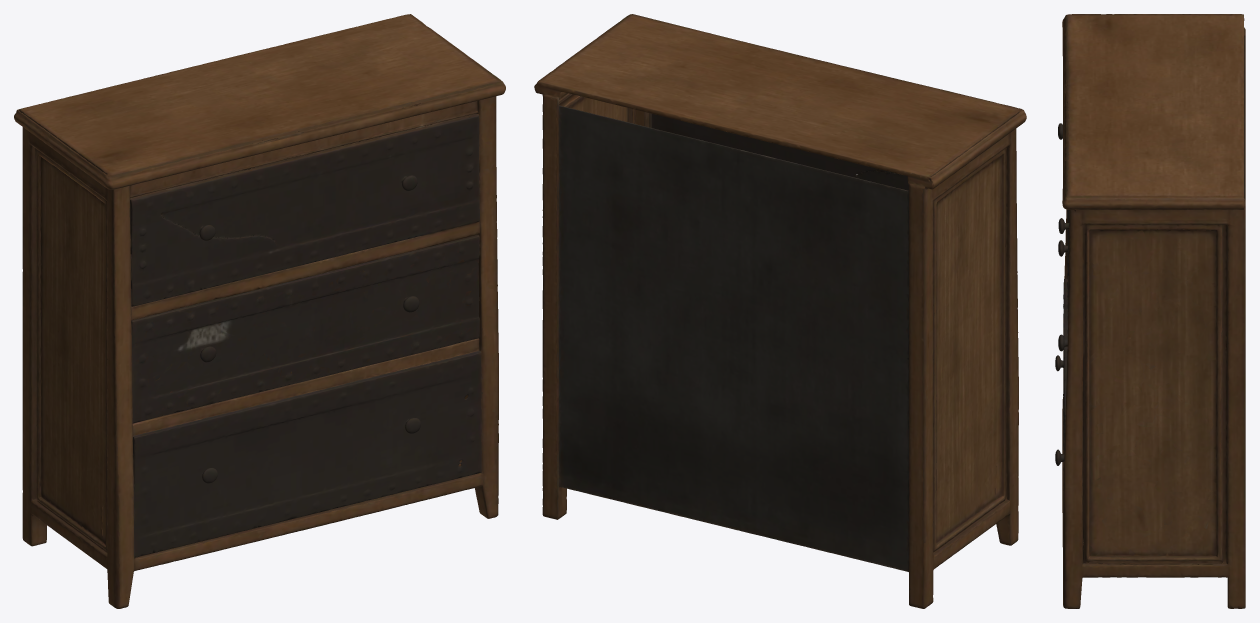
File: B071ZHY8X9.glb
The picture shows the model from 3 angles, left to right: view 1: azimuth 30°, elevation 25°; view 2: azimuth 150°, elevation 25°; view 3: azimuth 270°, elevation 25°; orthographic projection. The views are drawn at different scales.
Visible parts, largest first — view 1: geometry_0; view 2: geometry_0; view 3: geometry_0.
Boxes of the visible parts, left/top/right/bottom form: geometry_0: left=14, top=14, right=505, bottom=608; geometry_0: left=534, top=14, right=1026, bottom=608; geometry_0: left=1055, top=14, right=1245, bottom=608.
Size of the model in its own units: 0.6248 by 0.6471 by 0.2694.
Materials: 1 (1 with a texture image).
